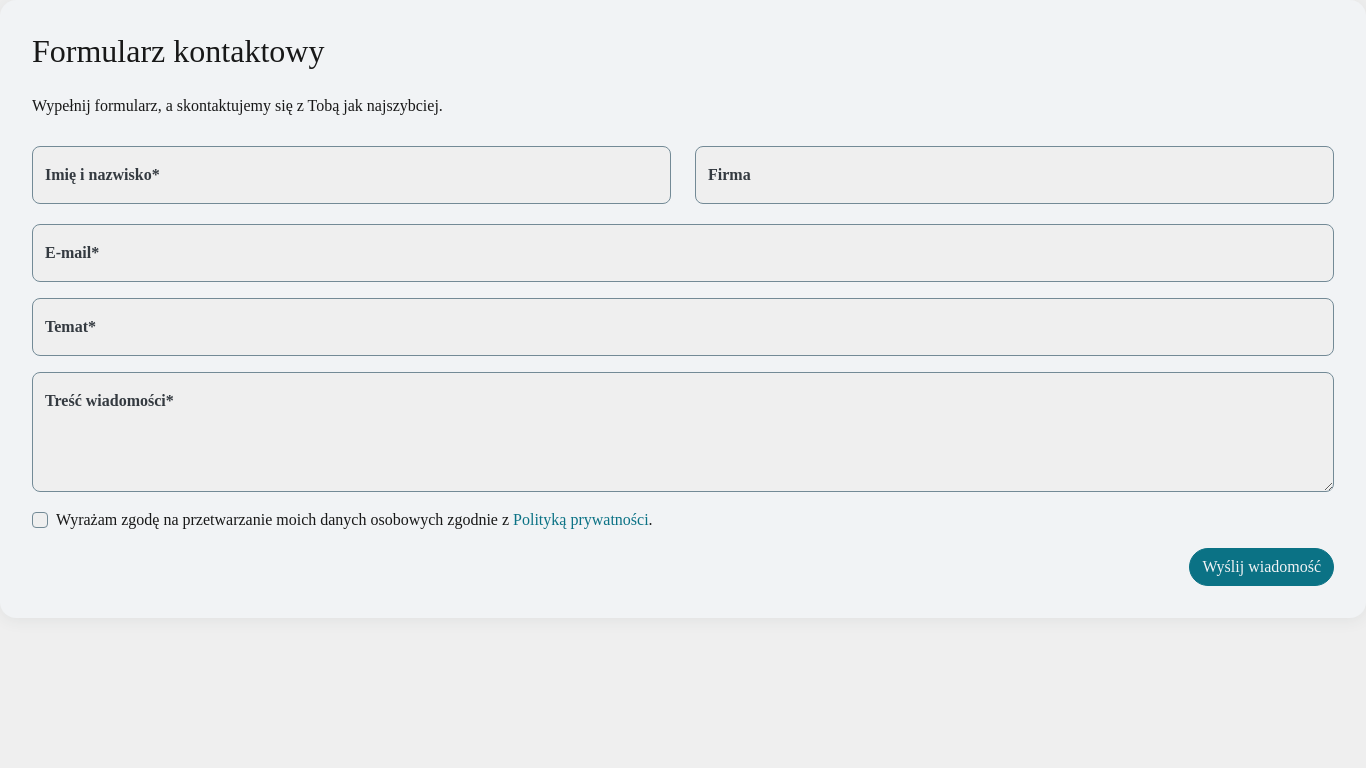
Test: ContactForm component › validates form and shows errors on submit with empty fields
The width and height of the screenshot is (1366, 768).
Click the button "Wyślij wiadomość" at coordinates (1262, 567), box [1189,548,1334,586]
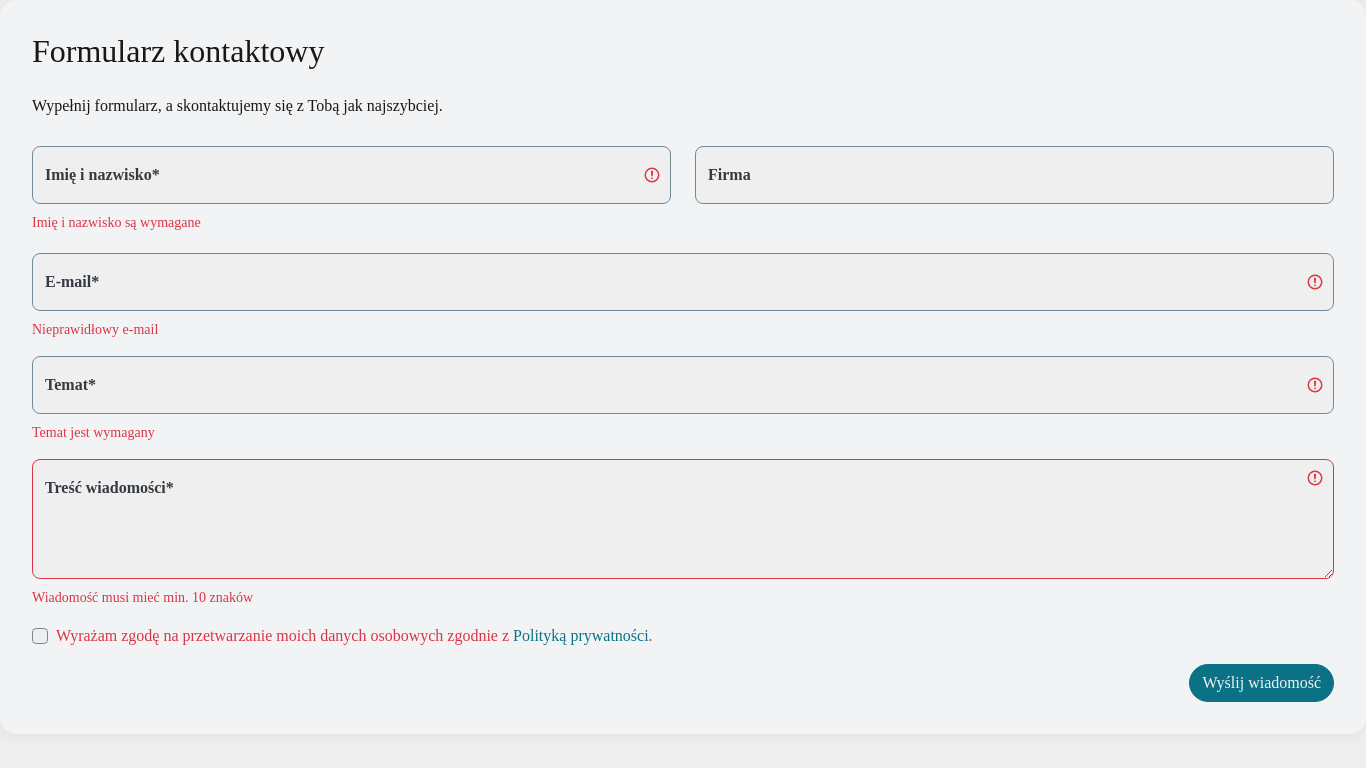
Expected: the text "Imię i nazwisko są wymagane" is shown, [32,215,201,230]
Expected: the text "Nieprawidłowy e-mail" is shown, [32,322,158,337]
Expected: the text "Temat jest wymagany" is shown, [32,425,155,440]
